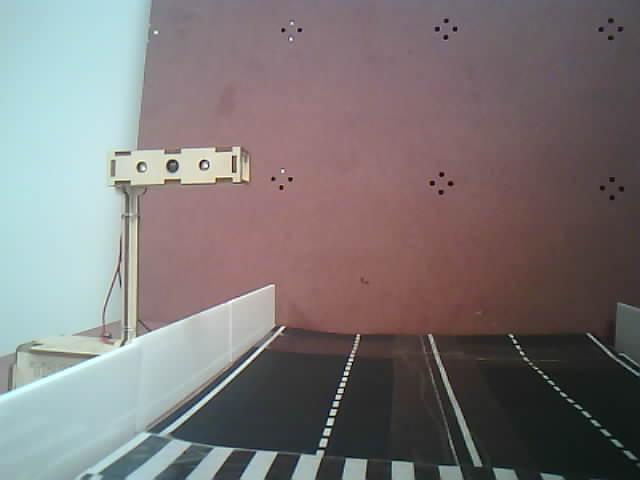crosswalk: (61, 410, 632, 480)
no: (97, 136, 266, 192)
